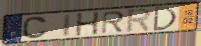C: (22, 16, 49, 40)
D: (152, 6, 179, 32)
H: (75, 11, 101, 37)
I: (62, 13, 73, 38)
R: (124, 7, 154, 35), (100, 10, 126, 35)
